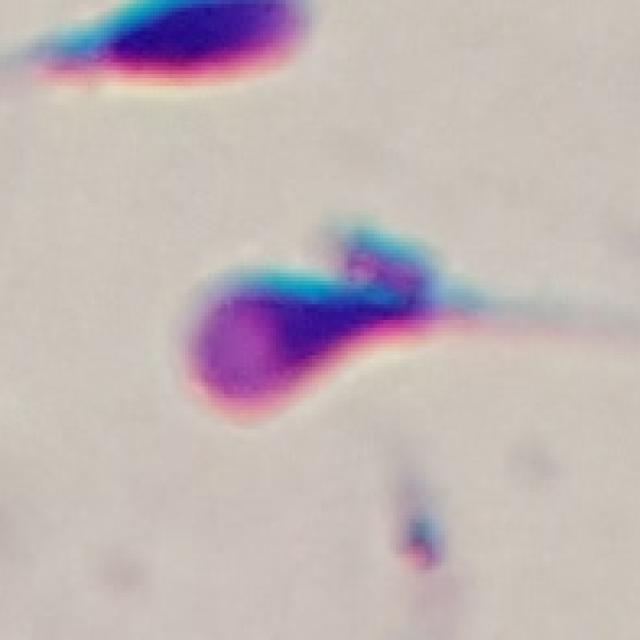abnormal sperm: (172, 251, 580, 409), (0, 0, 316, 98)
